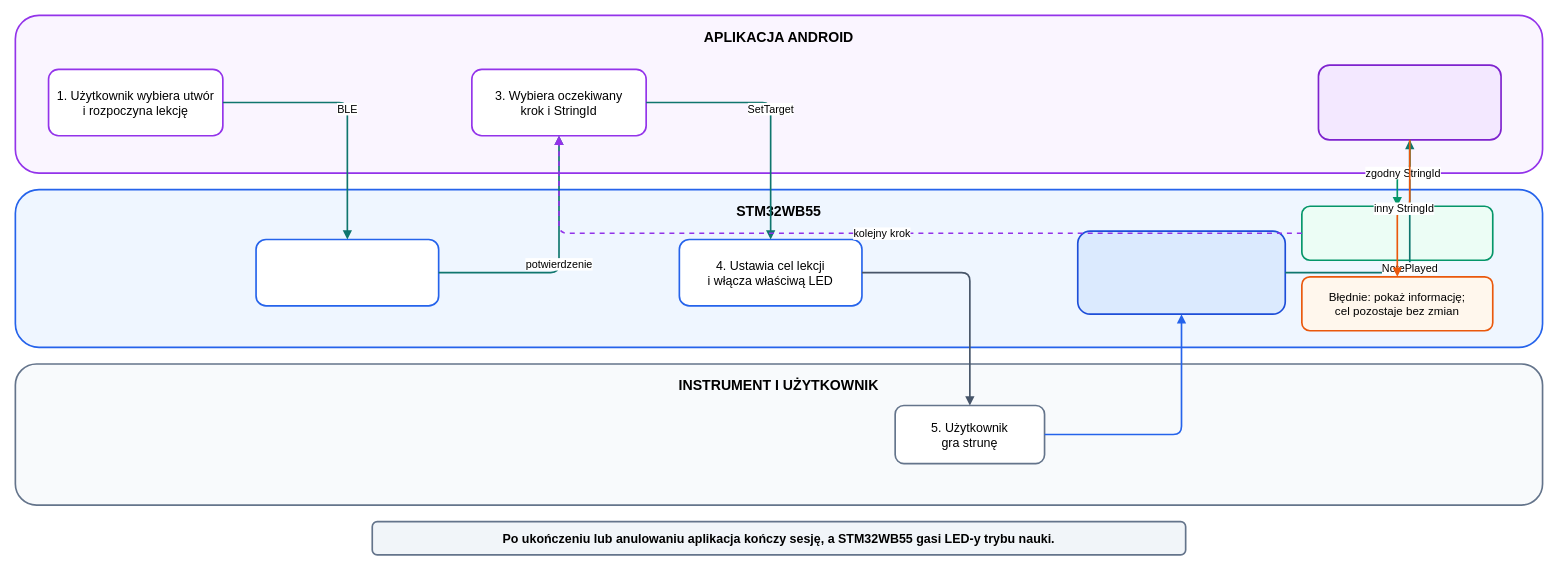
The diagram is 1557 pixels wide and 569 high, and some of its shapes have lost their labels. Each missing label, with the centre of its shape:
"2. Tworzy sesję lekcji i potwierdza możliwości" belongs at point (347, 272).
"6. Natychmiast uruchamia dźwięk i wysyła zdarzenie zagrania" belongs at point (1181, 272).
"7. Porównuje zdarzenie z oczekiwanym krokiem" belongs at point (1409, 102).
"Poprawnie: zapisz postęp i wyślij kolejny cel" belongs at point (1397, 233).
